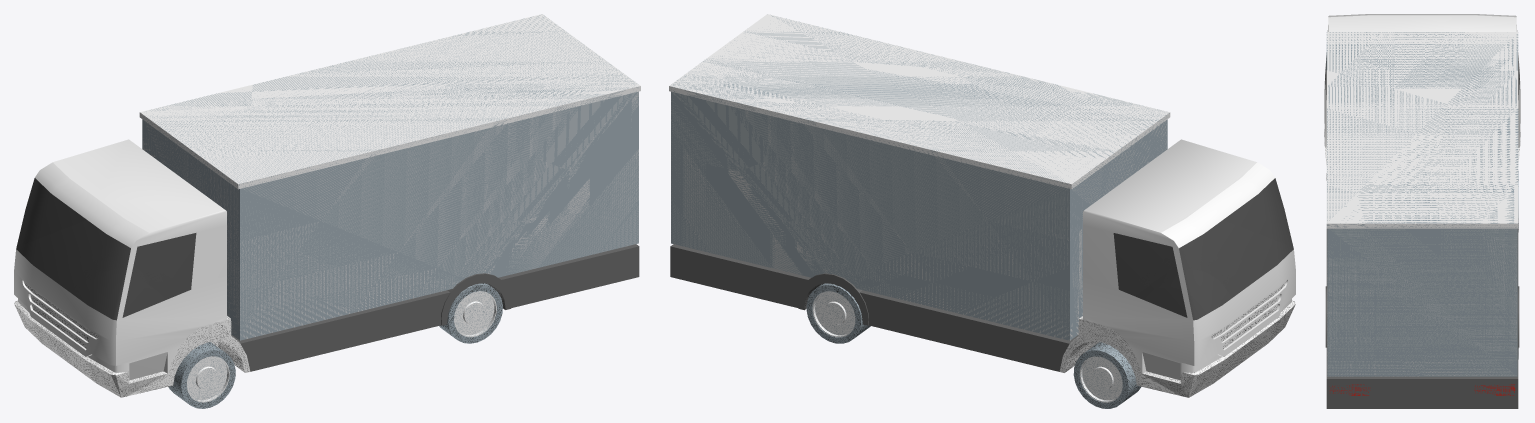
Rendered from truck.fbx.
The picture shows the model from 3 angles, left to right: view 1: azimuth 30°, elevation 25°; view 2: azimuth 150°, elevation 25°; view 3: azimuth 270°, elevation 25°; orthographic projection. The views are drawn at different scales.
Visible parts, largest first — view 1: Model; view 2: Model; view 3: Model.
Boxes of the visible parts, <box> form: Model: <box>14,14,640,408</box>; Model: <box>669,14,1295,408</box>; Model: <box>1324,14,1520,408</box>.
Bounding box in the file's own units: 7.35 × 2.85 × 2.4.
